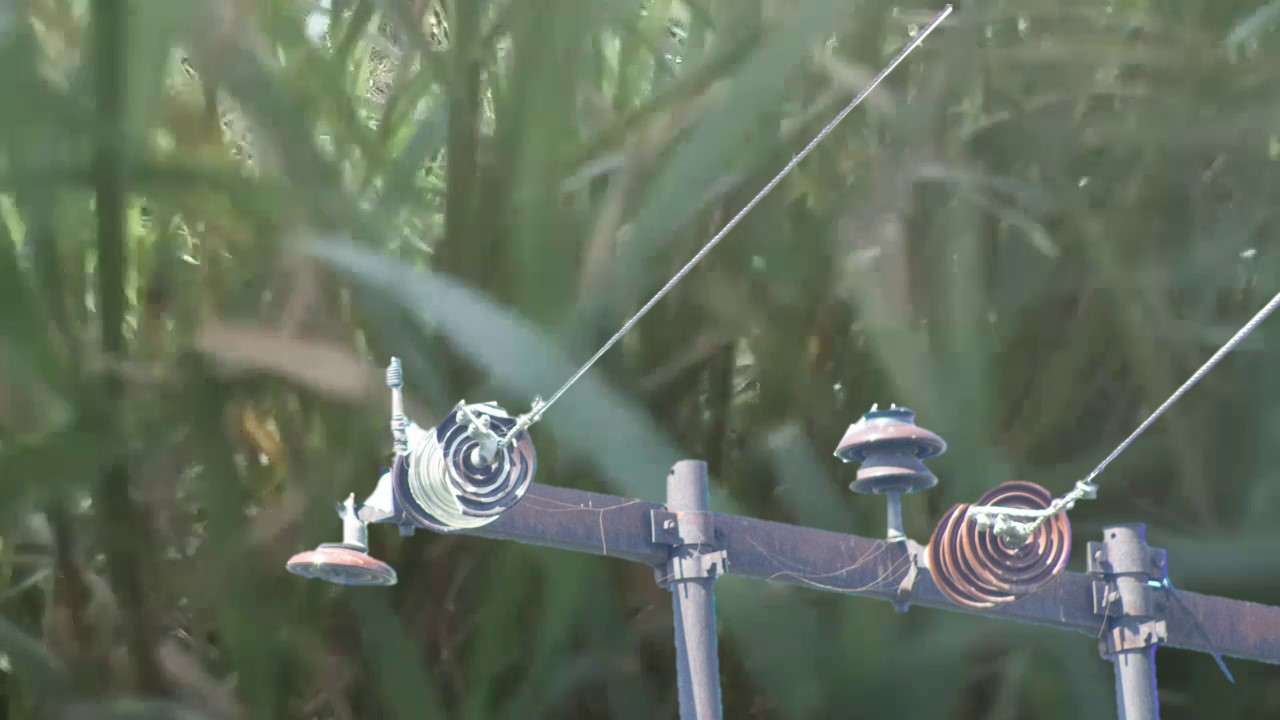defect_disc: (435, 397, 540, 525)
insulator_disc: (960, 477, 1078, 595), (282, 526, 402, 595)
